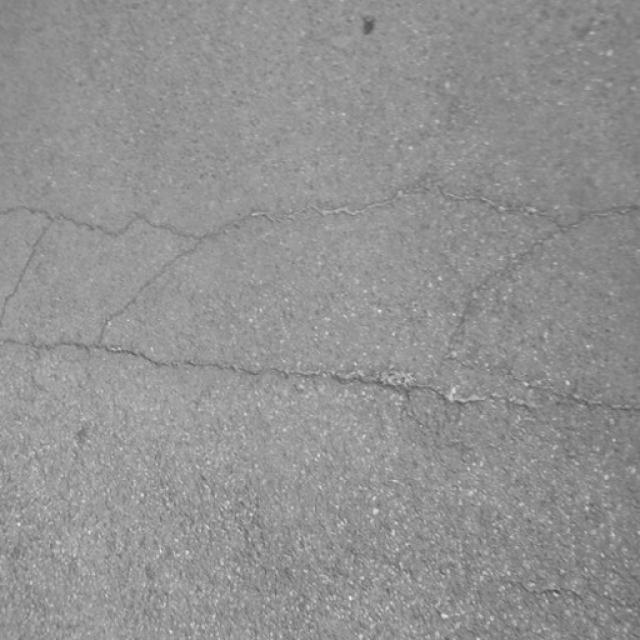SurfaceCrack: (1, 305, 640, 455)
